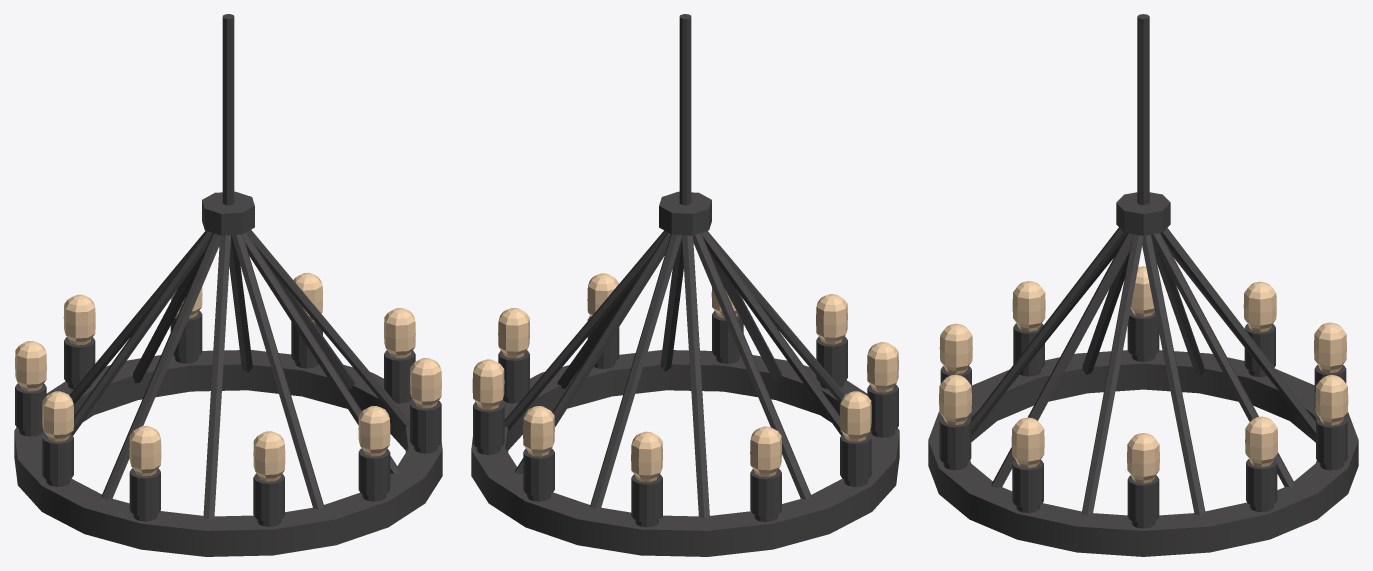
File: Chandelier.fbx
The picture shows the model from 3 angles, left to right: view 1: azimuth 30°, elevation 25°; view 2: azimuth 150°, elevation 25°; view 3: azimuth 270°, elevation 25°; orthographic projection.
Parts seen in each view (by area): view 1: pCylinder24; view 2: pCylinder24; view 3: pCylinder24.
Boxes of the visible parts, x1=… form: pCylinder24: x1=14, y1=14, x2=442, y2=556; pCylinder24: x1=471, y1=14, x2=899, y2=556; pCylinder24: x1=928, y1=14, x2=1358, y2=556.
Bounding box in the file's own units: 30.55 × 35.2 × 30.55.
